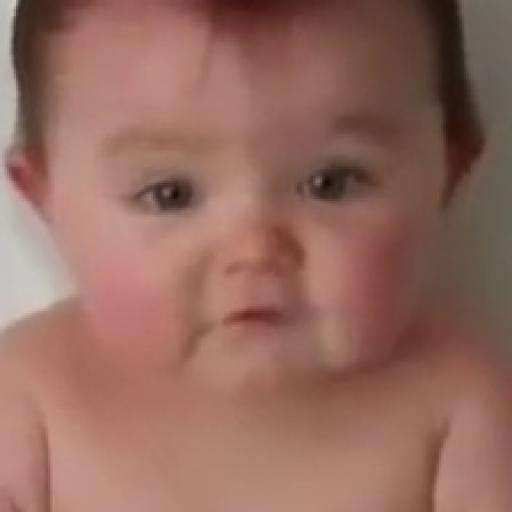Autism: (10, 15, 512, 477)
